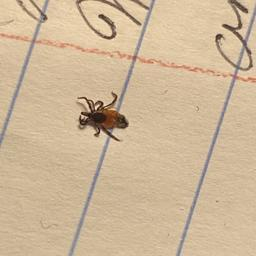Ixodes scapularis: (77, 93, 128, 141)
